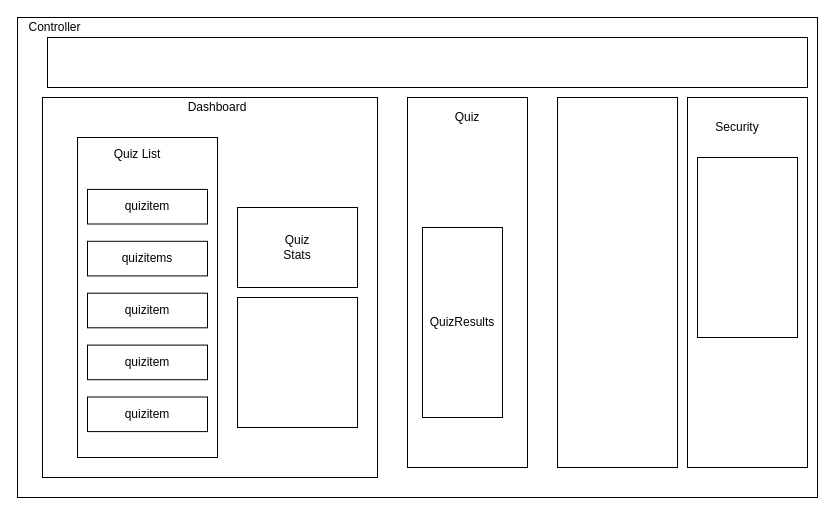
Image size: 835x515. Some labels were removed from this diagram. The shapes that lost their labels are listed below. From the top down, each one's centre as x and y in pixels, then its label:
the point at 427,62: Header
the point at 747,247: Security Form
the point at 617,282: Quiz Maker
the point at 297,362: YourQuizzes
